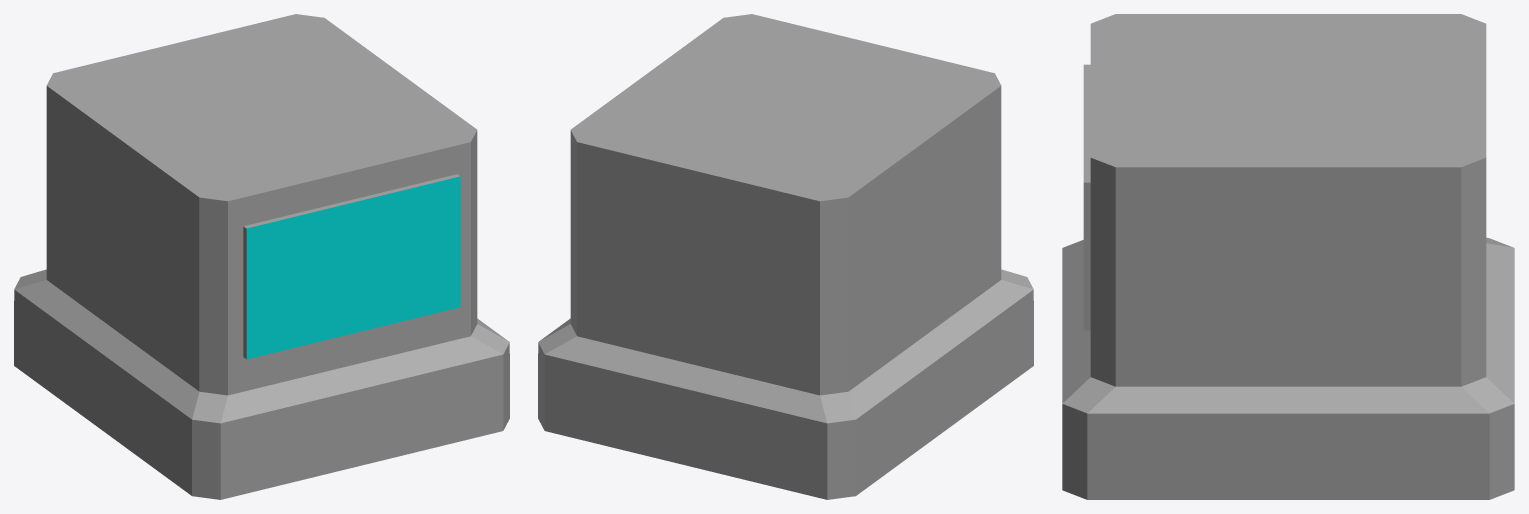
Rendered from Coso de los trofeos.fbx.
3 views of the same model, side by side, from view 1: azimuth 30°, elevation 25°; view 2: azimuth 150°, elevation 25°; view 3: azimuth 270°, elevation 25° (orthographic). The views are drawn at different scales.
Visible parts, largest first — view 1: polySurface1; view 2: polySurface1; view 3: polySurface1.
Boxes of the visible parts, box(x1,y1,x2,y2) form: polySurface1: box(14, 14, 509, 499); polySurface1: box(538, 14, 1033, 499); polySurface1: box(1062, 14, 1514, 499).
Bounding box in the file's own units: 234 × 200 × 255.
